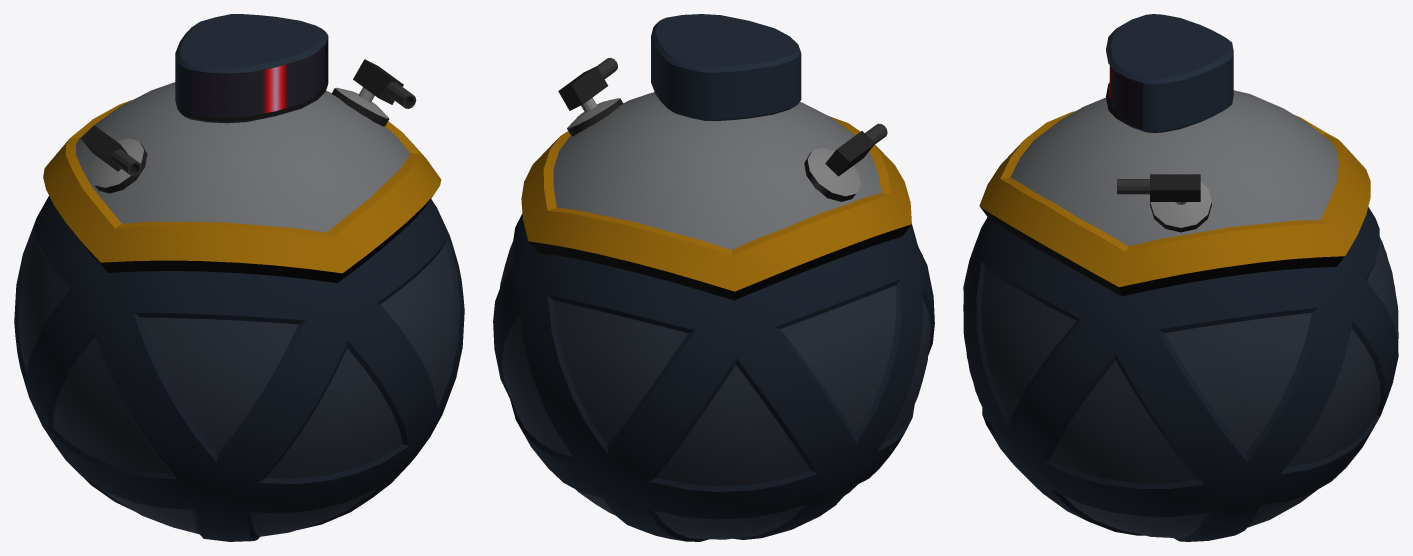
Rendered from RollerBot.fbx.
3 views of the same model, side by side, from view 1: azimuth 30°, elevation 25°; view 2: azimuth 150°, elevation 25°; view 3: azimuth 270°, elevation 25° (orthographic). The views are drawn at different scales.
Parts seen in each view (by area): view 1: Sphere, Top, Head, Eyes, LaserGun, LaserTurretBaseRight, LaserGun (2), LaserTurretBaseLeft; view 2: Sphere, Top, Head, LaserTurretBaseRight, LaserGun, LaserGun (2), LaserTurretBaseLeft; view 3: Sphere, Top, Head, LaserGun, LaserTurretBaseLeft, Eyes.
Boxes of the visible parts, <box> form: Sphere: <box>14,196,464,541</box>; Top: <box>43,82,441,282</box>; Head: <box>175,14,328,123</box>; Eyes: <box>191,45,324,117</box>; LaserGun: <box>353,59,416,108</box>; LaserTurretBaseRight: <box>89,138,147,193</box>; LaserGun (2): <box>81,125,141,175</box>; LaserTurretBaseLeft: <box>331,87,389,126</box>; Sphere: <box>493,214,934,541</box>; Top: <box>521,92,911,300</box>; Head: <box>651,14,801,121</box>; LaserTurretBaseRight: <box>804,148,860,201</box>; LaserGun: <box>558,57,617,110</box>; LaserGun (2): <box>825,123,887,176</box>; LaserTurretBaseLeft: <box>567,98,623,136</box>; Sphere: <box>963,207,1398,541</box>; Top: <box>979,90,1370,296</box>; Head: <box>1106,14,1233,132</box>; LaserGun: <box>1117,174,1200,201</box>; LaserTurretBaseLeft: <box>1150,182,1211,232</box>; Eyes: <box>1109,65,1143,126</box>.
Size of the model in its own units: 285 by 339 by 281.
